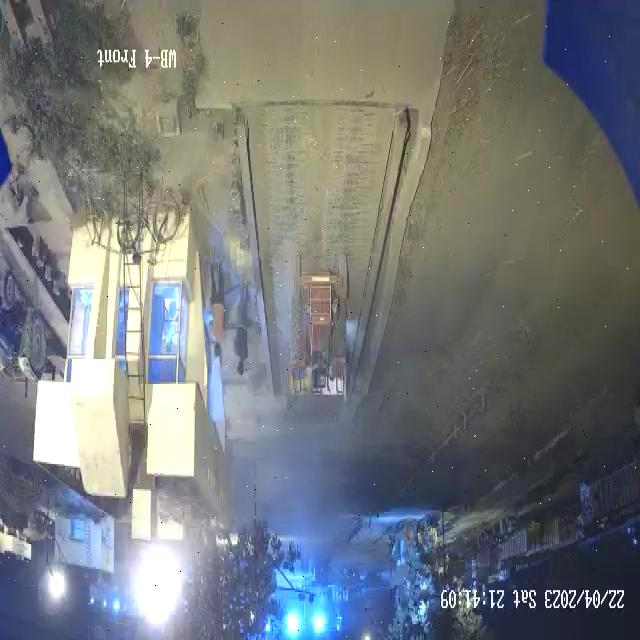Tratores - v5 YOLO V8L 2024-11-13: (284, 242, 350, 394)
